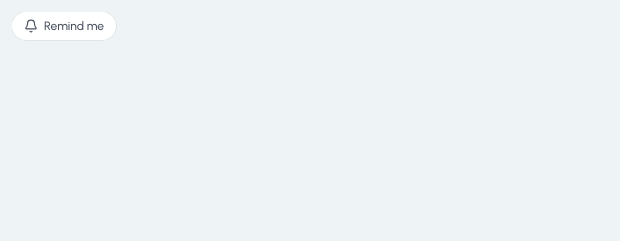
it: HealthTipReminder › confirms the tip was saved only when the server says it was
Click the button "Remind me".
click(64, 26)  # box x1=12 y1=12 x2=116 y2=40
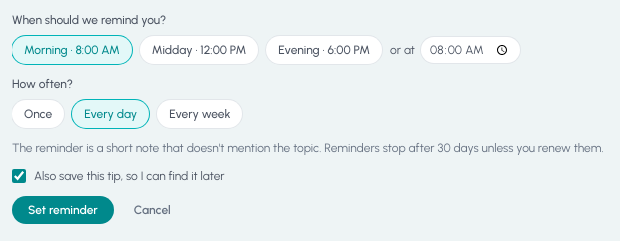
Click the button "Set reminder".
click(63, 210)  # box x1=12 y1=196 x2=114 y2=224
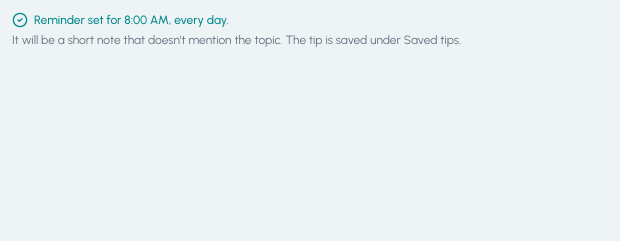
Expected: the text "saved under Saved tips" is shown, x1=283 y1=33 x2=461 y2=47
